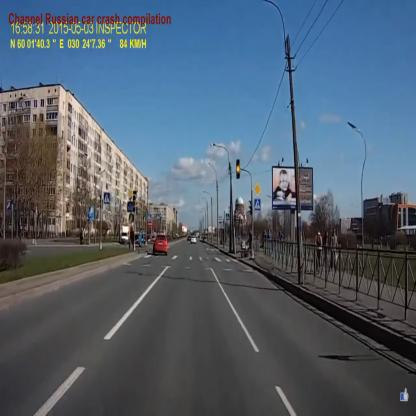crosswalk: (145, 254, 240, 264)
